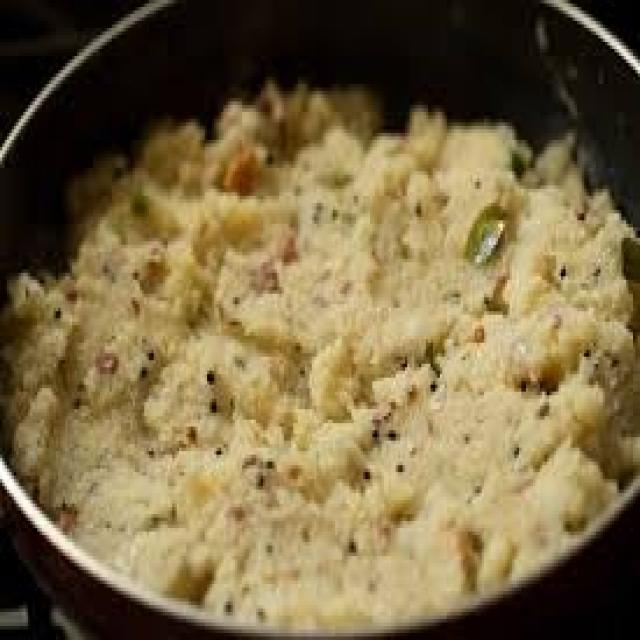UPMA: (0, 77, 635, 630)
